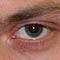eye: (25, 25, 43, 37)
